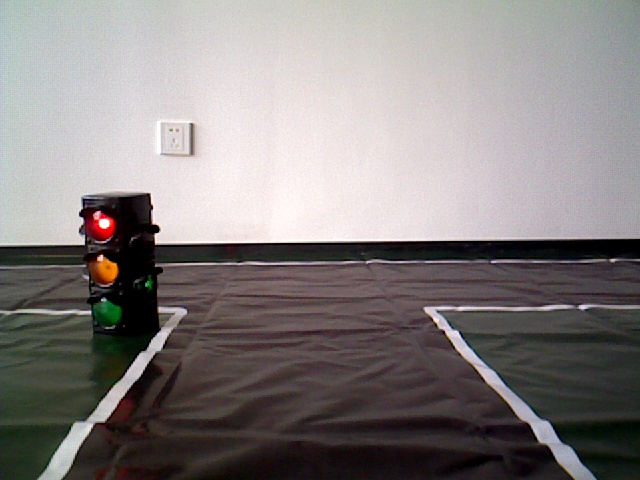red: (79, 197, 154, 331)
